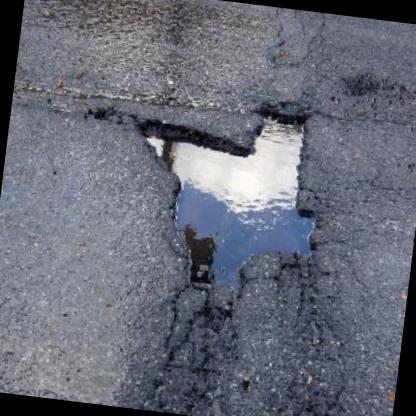pothole: (115, 82, 336, 312)
